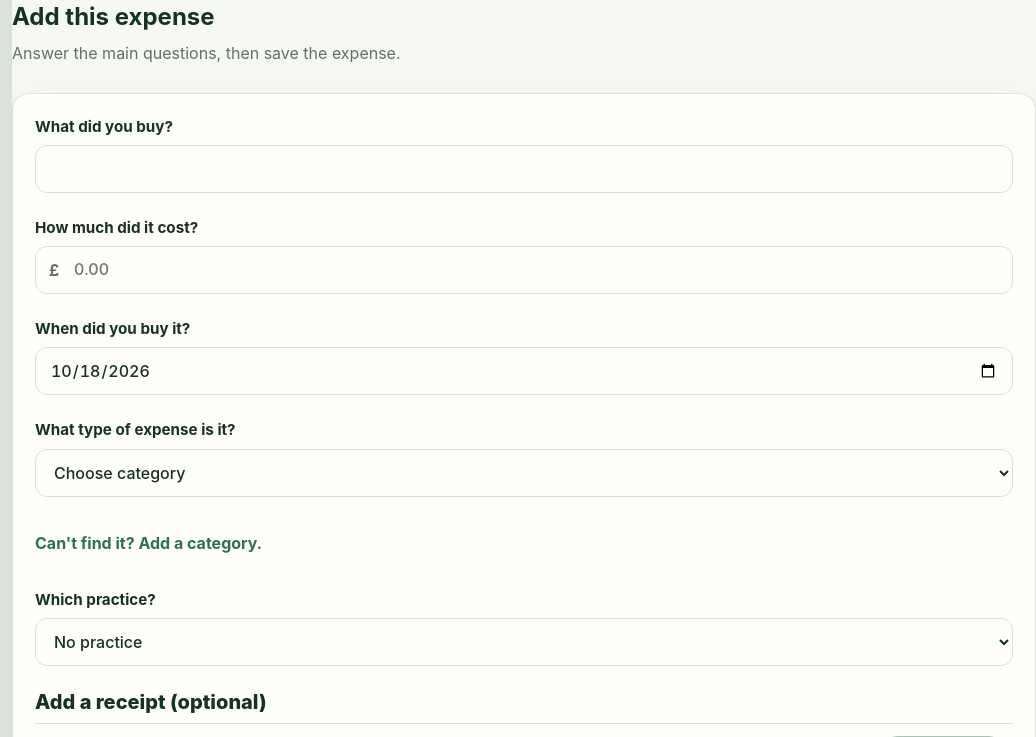
Scenario: shows saving feedback and blocks duplicate submission
Type "Fictional paper" into the field labelled "What did you buy?". click: x=524, y=169
box: [35,145,1013,193]
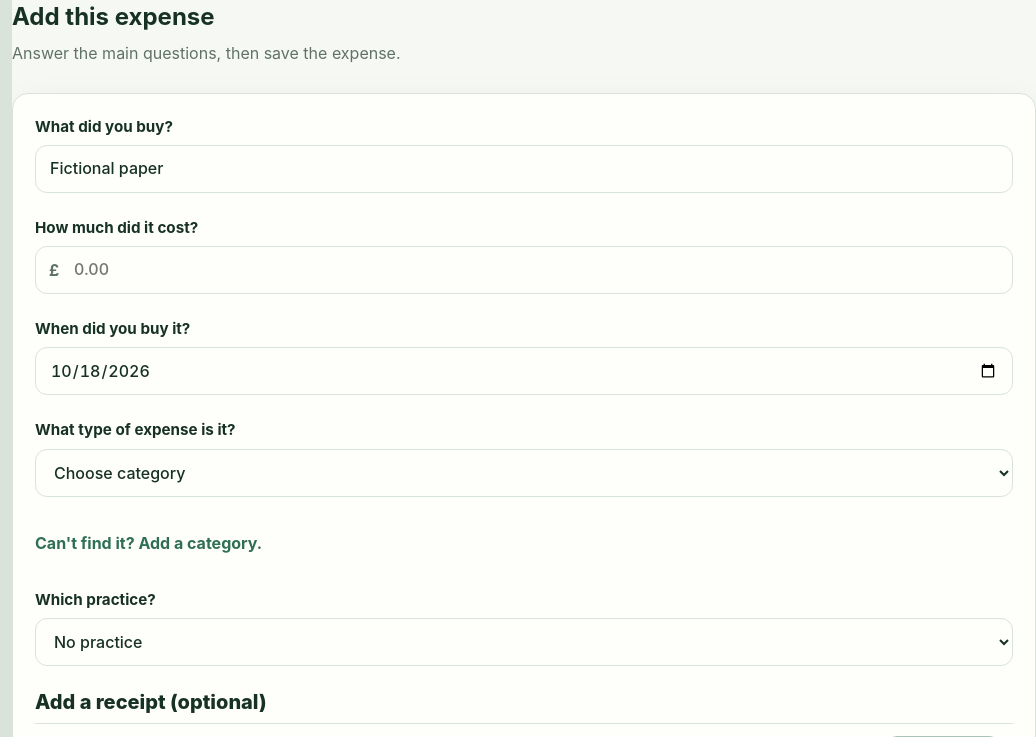
Type "12.50" into the field labelled "How much did it cost?". click: x=524, y=270
box: [35,246,1013,294]
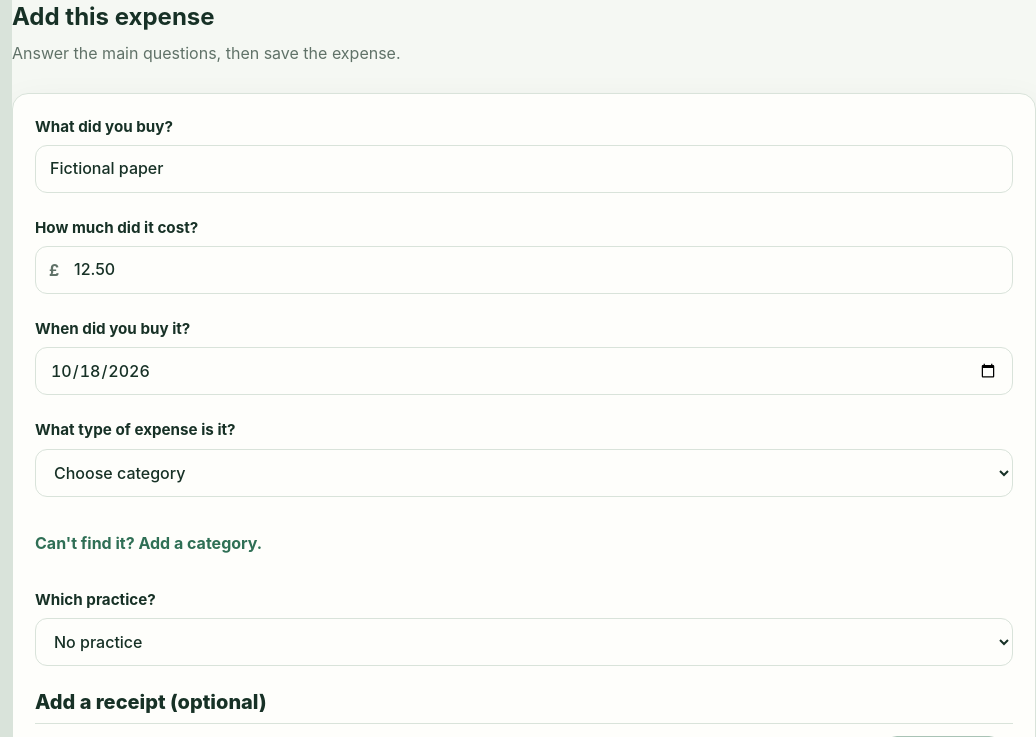
Select "Stationery and office supplies" in the dropdown labelled "What type of expense is it?". click: x=524, y=473
box: [35,449,1013,497]
(page scrolled)
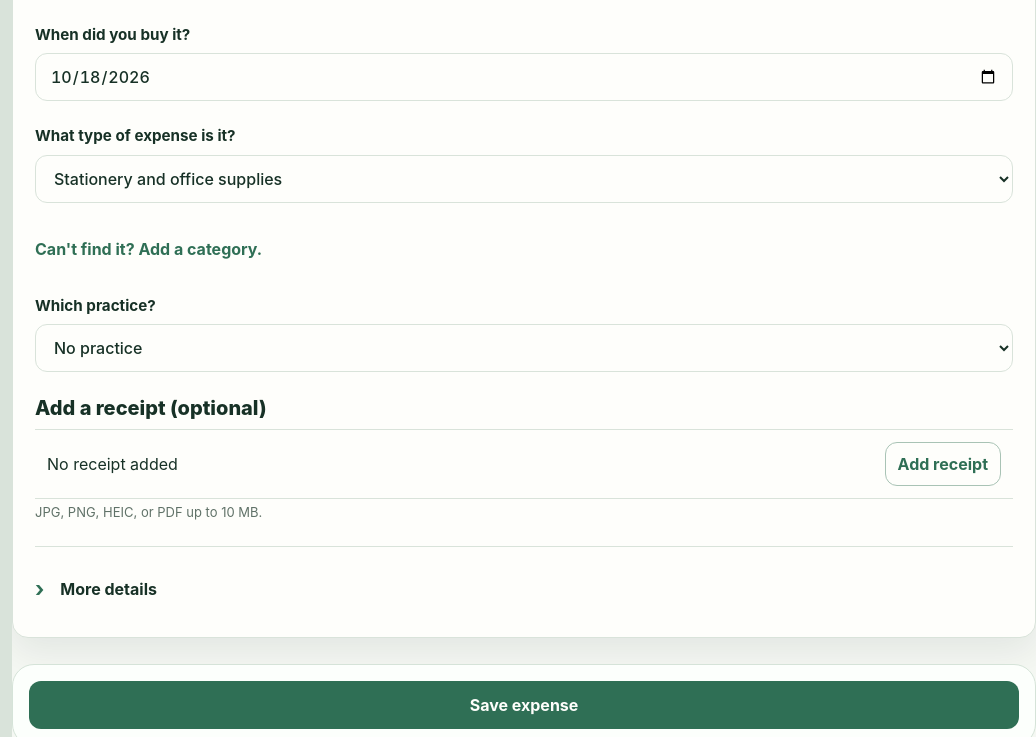
Click the button "Save expense". click: x=524, y=705
box: [29,681,1019,729]
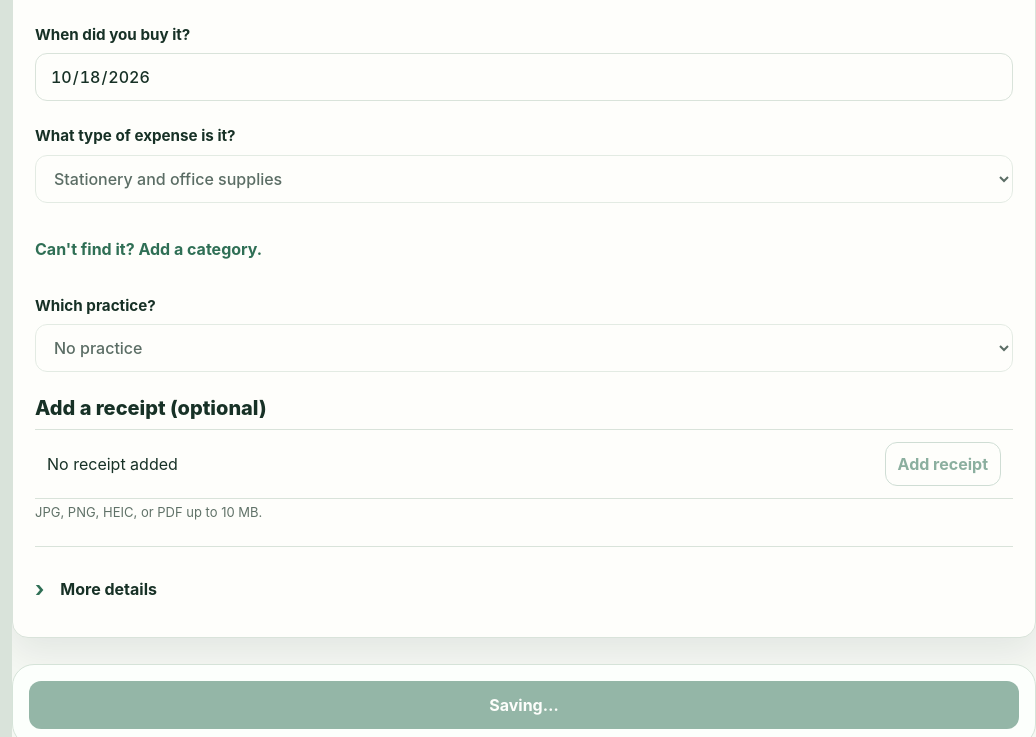
Expected: the button "Saving…" is disabled
Click the button "Saving…". click: x=524, y=705
box: [29,681,1019,729]
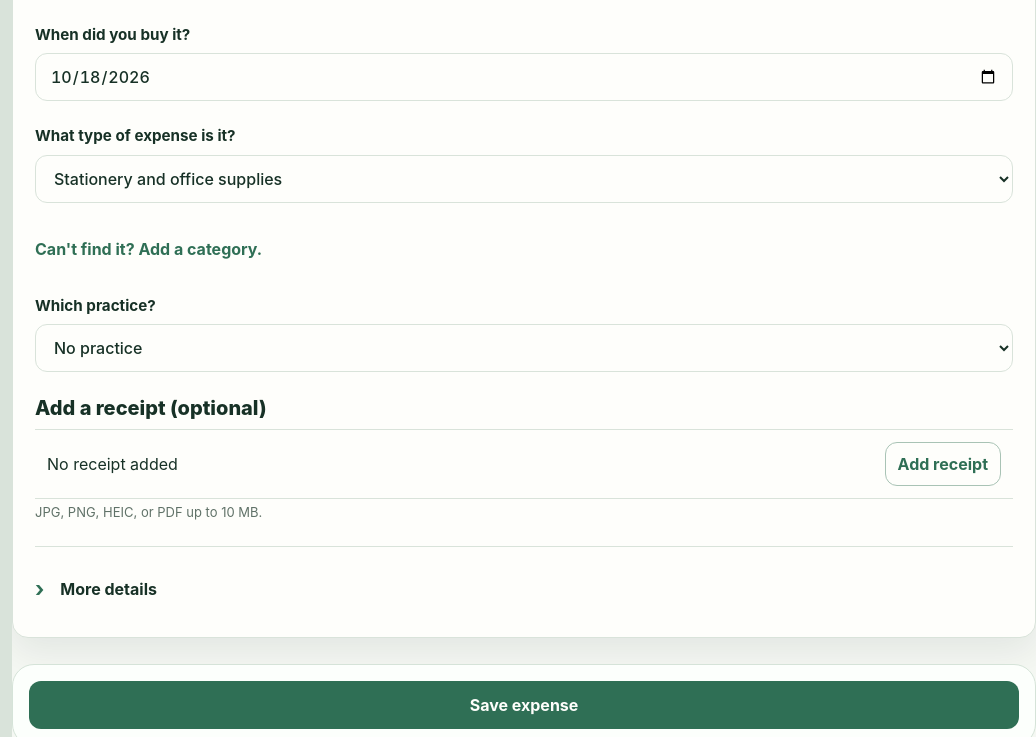
Expected: the button "Save expense" is enabled, [29,681,1019,729]
